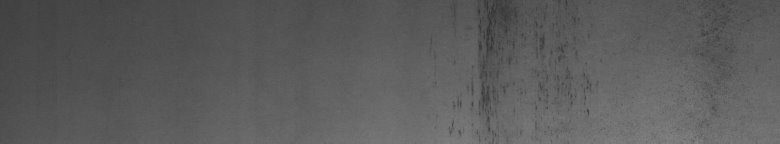ka: (448, 4, 598, 136)
